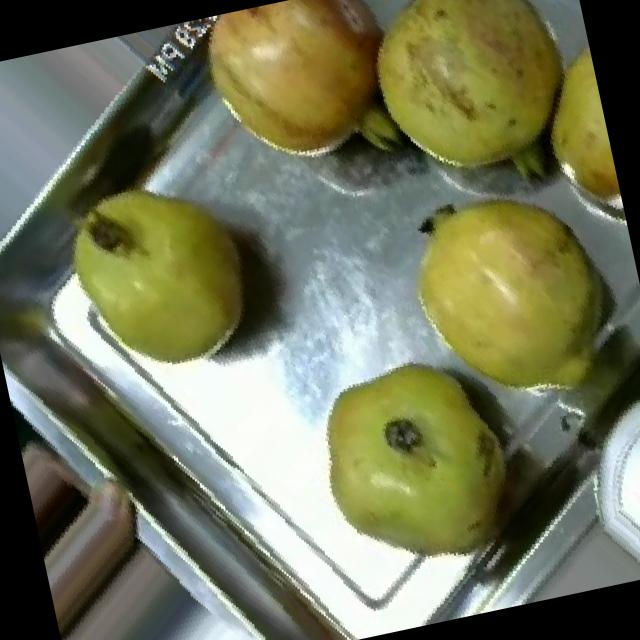fruit: (359, 137, 640, 449), (278, 314, 556, 622), (26, 142, 286, 418), (332, 0, 618, 232), (165, 0, 435, 207)
